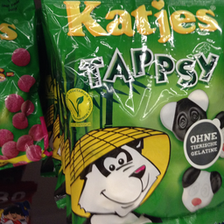candy: (42, 1, 222, 224)
